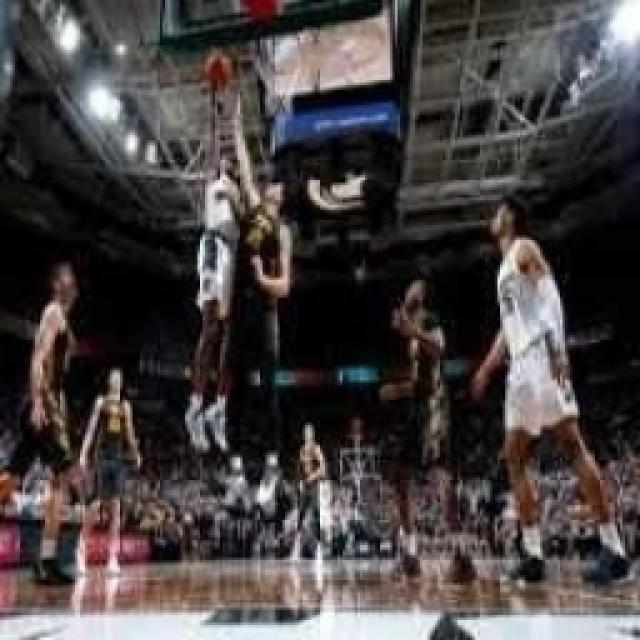basketball: (209, 51, 232, 90)
